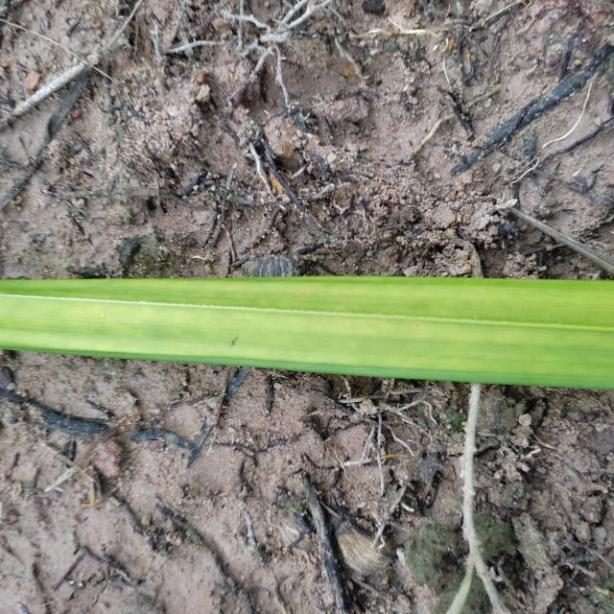nitrogen: (0, 276, 614, 392)
